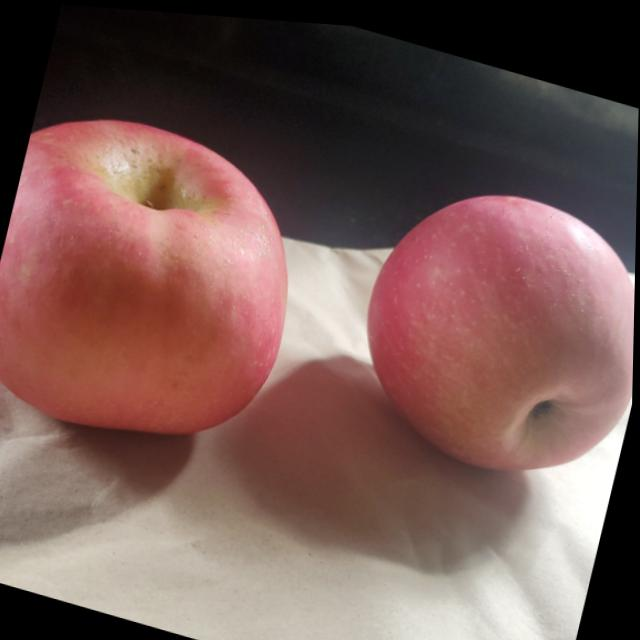apple: (0, 93, 320, 471), (343, 157, 638, 500)
